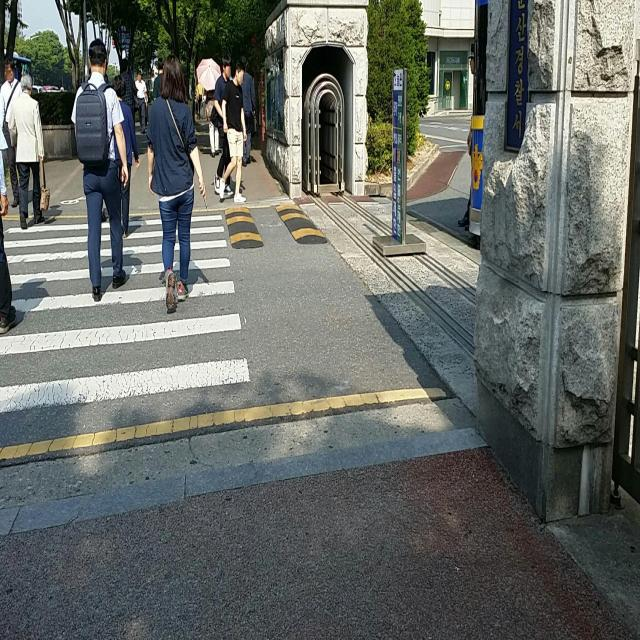횡단보도: (2, 214, 251, 412)
